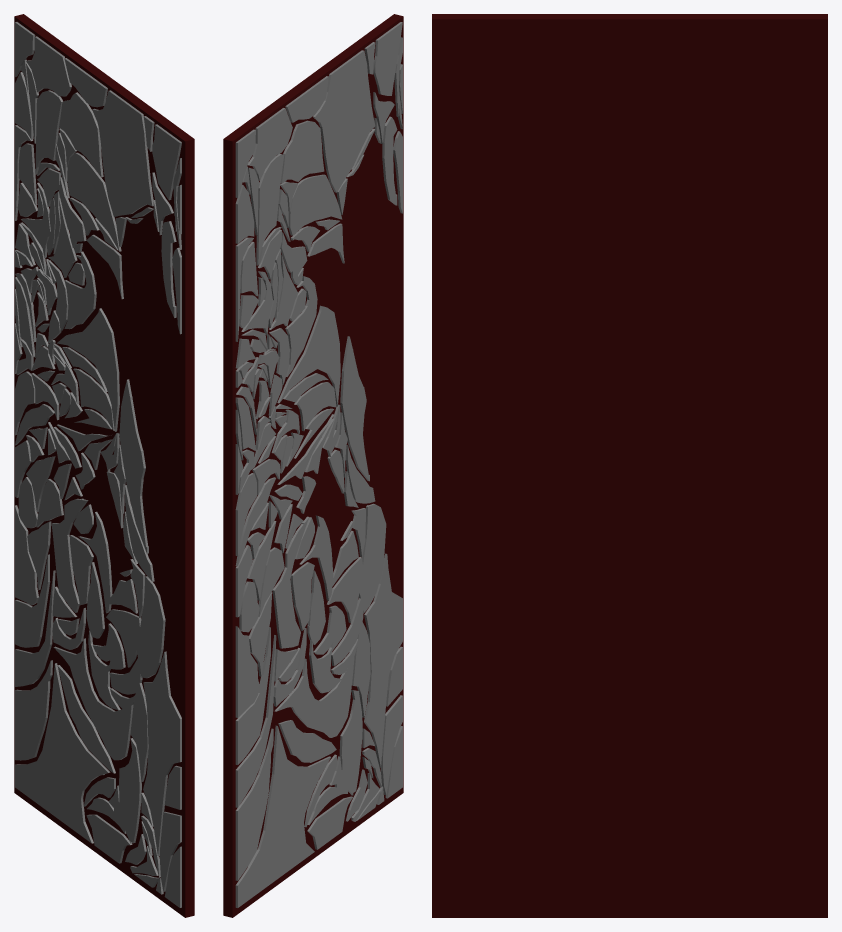
File: ShatteredMirror.obj
3 renders of one model, left to right at view 1: azimuth 30°, elevation 25°; view 2: azimuth 150°, elevation 25°; view 3: azimuth 270°, elevation 25°, orthographic. The views are drawn at different scales.
Visible parts, largest first — view 1: polySurface244; view 2: polySurface244; view 3: polySurface244.
Part boxes in pixels (bbox=[...]): polySurface244: bbox=[14, 14, 194, 917]; polySurface244: bbox=[223, 14, 403, 917]; polySurface244: bbox=[432, 14, 827, 917].
Bounding box in the file's own units: 0.037 × 2.33 × 0.9297.
